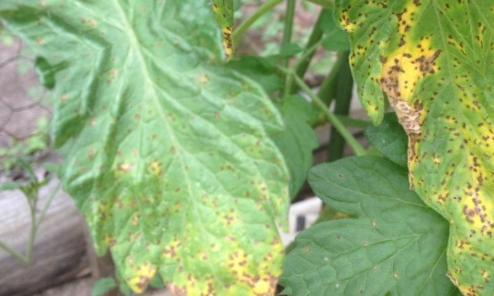Tomato Septoria leaf spot: (17, 0, 356, 296), (307, 0, 494, 237)
